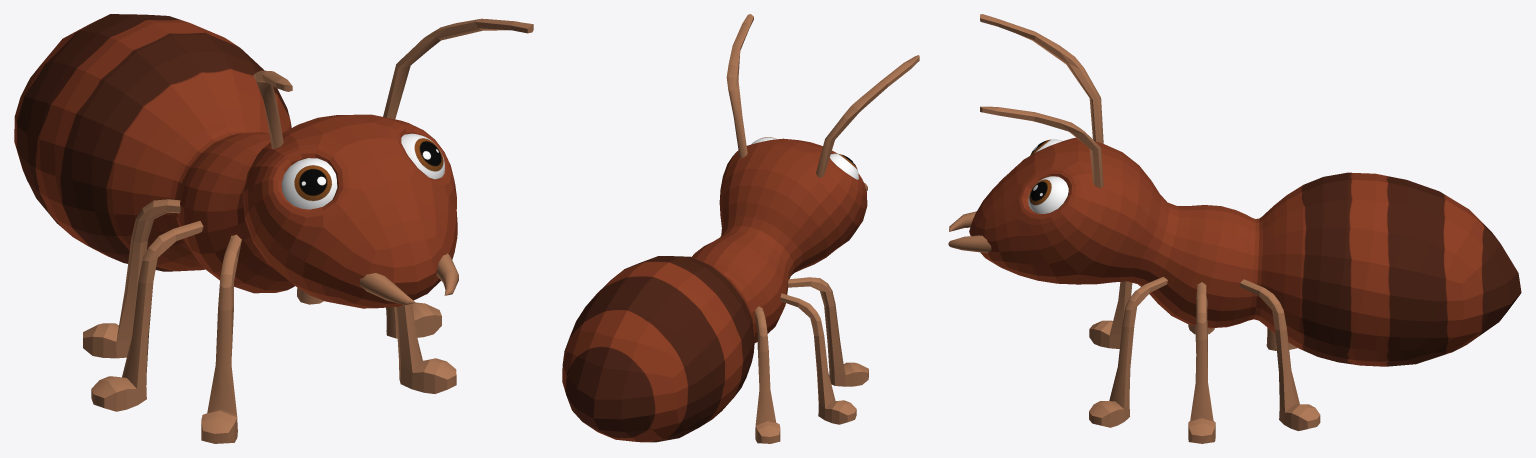
Rendered from flea.glb.
3 renders of one model, left to right at view 1: azimuth 30°, elevation 25°; view 2: azimuth 150°, elevation 25°; view 3: azimuth 270°, elevation 25°, orthographic. The views are drawn at different scales.
Parts seen in each view (by area): view 1: body, pCube6, pCube7, pCube8, pCube2, pCube4, right_eye, pCube5, left_eye, pCube1, pCone2, pCone1; view 2: body, pCube7, pCube6, pCube8, pCube5, pCube4, right_eye; view 3: body, pCube3, pCube2, pCube1, pCube5, pCube4, pCube7, left_eye, pCone1.
Boxes of the visible parts, x1,y1,x2,y2 form: body: (14,14,457,308); pCube6: (91,221,203,411); pCube7: (201,234,241,443); pCube8: (83,199,180,358); pCube2: (395,303,456,393); pCube4: (383,18,533,119); right_eye: (281,158,337,209); pCube5: (253,70,292,148); left_eye: (401,133,444,179); pCube1: (386,302,441,338); pCone2: (359,273,415,305); pCone1: (436,253,458,295); body: (562,138,867,442); pCube7: (788,277,868,386); pCube6: (780,293,856,424); pCube8: (754,306,780,443); pCube5: (816,55,919,177); pCube4: (726,14,753,158); right_eye: (830,153,858,179); body: (969,137,1521,366); pCube3: (1240,279,1320,430); pCube2: (1089,276,1167,427); pCube1: (1188,282,1215,443); pCube5: (980,14,1103,143); pCube4: (980,106,1103,188); pCube7: (1089,281,1132,348); left_eye: (1028,176,1068,213); pCone1: (948,235,991,253).
Size of the model in its own units: 4.25 by 4.89 by 7.9.
Materials: 3 (2 with a texture image).
